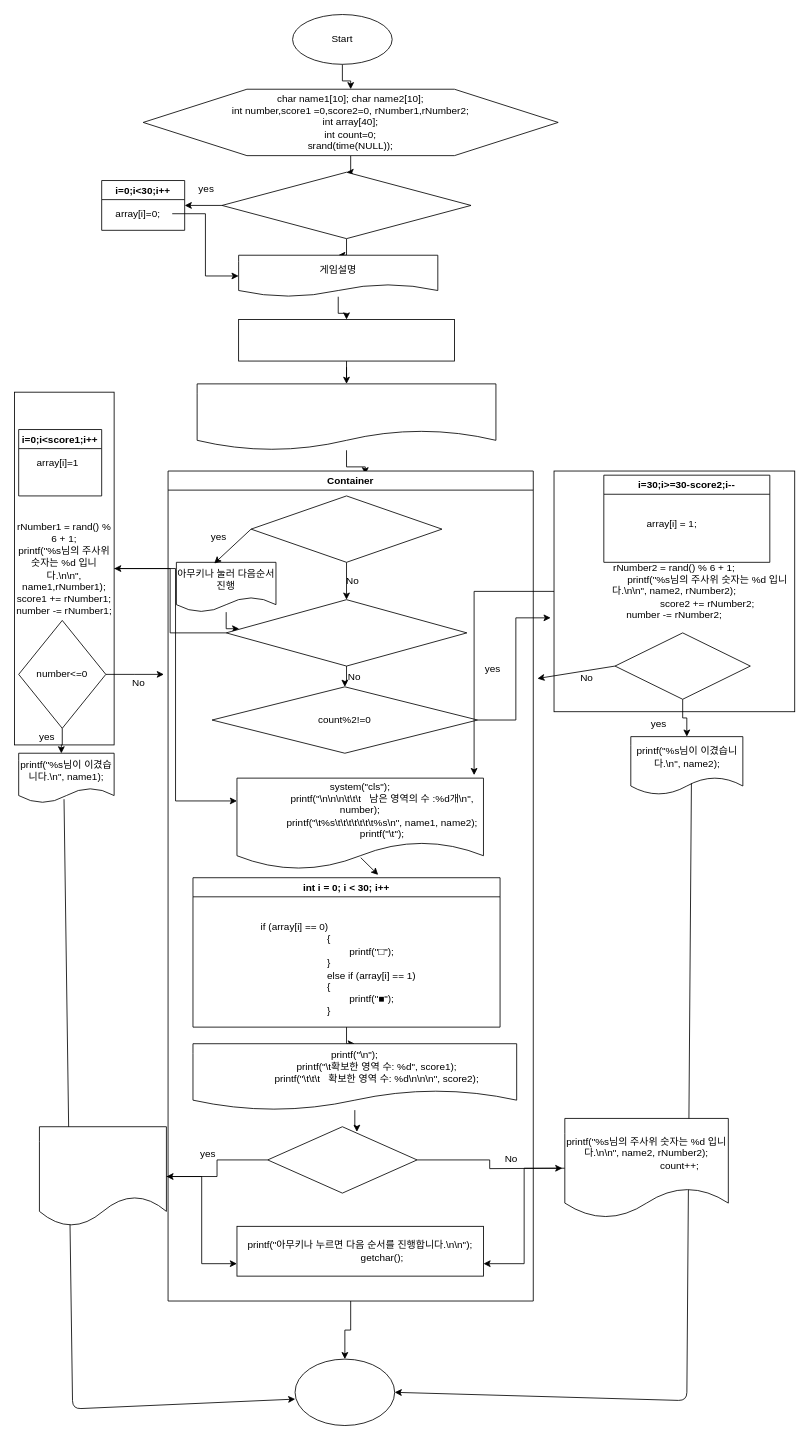
Some shapes in this 809 by 1440 pixel diagram are drawn without their labels. The shapes that lost their labels are listed below. From the top down, each one's centre as x and y in pixels, then its label:
(x=346, y=205): number>=30
(x=346, y=340): Player2명 이름 입력
(x=346, y=416): 게임 진행상황 표시
(x=346, y=528): count==0
(x=346, y=632): count%2==0
(x=682, y=665): number <= 0
(x=102, y=1176): printf("%s님의 주사위 숫자는 %d 입니다.\n\n", name1, rNumber1); count++;
(x=342, y=1159): count % 2 == 0
(x=344, y=1392): End
